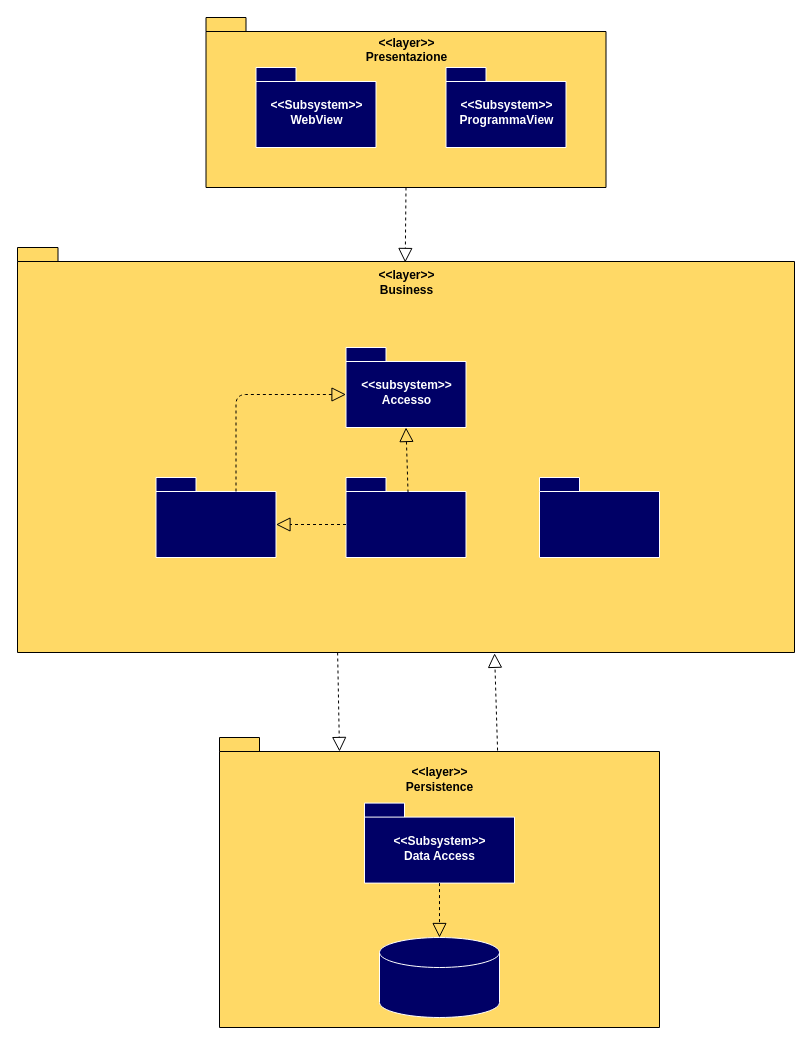
Image size: 812x1045. Some labels were removed from this diagram. Here are the shapes that lost their labels. From the top down, the centre of each, then its label:
point (215, 517): <<subsystem>> Gestione
point (405, 517): <<subsystem>> Prenotazioni
point (599, 517): <<subsystem>> Visualizzazione Coda
